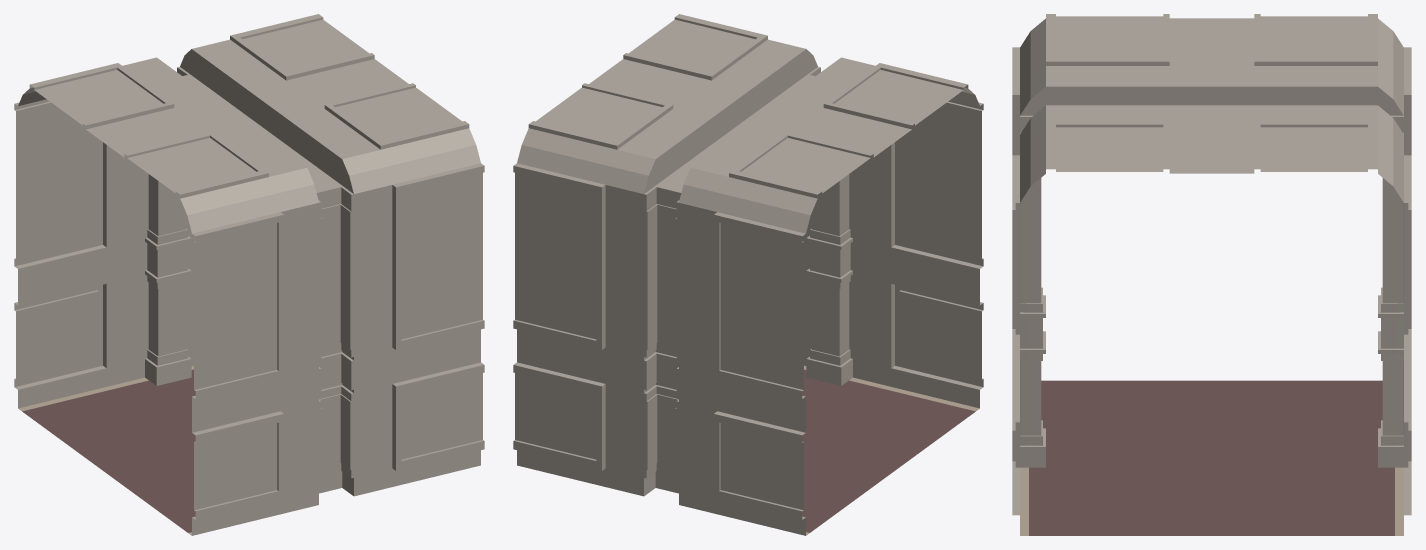
The model's file is Corridor_01_Mesh.fbx.
The picture shows the model from 3 angles, left to right: view 1: azimuth 30°, elevation 25°; view 2: azimuth 150°, elevation 25°; view 3: azimuth 270°, elevation 25°; orthographic projection. The views are drawn at different scales.
Parts seen in each view (by area): view 1: pCube12; view 2: pCube12; view 3: pCube12.
Boxes of the visible parts, x1,y1,x2,y2 form: pCube12: [14, 14, 484, 535]; pCube12: [513, 14, 983, 535]; pCube12: [1012, 14, 1411, 535].
Bounding box in the file's own units: 230 × 253 × 250.
